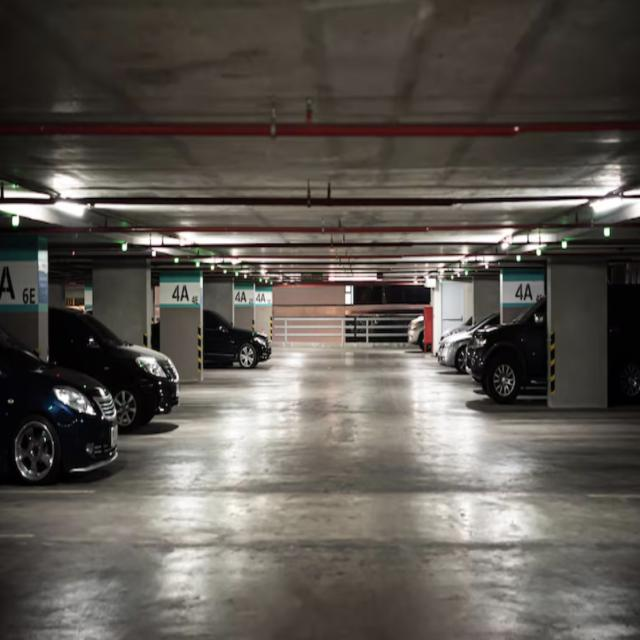libre: (565, 325, 640, 640), (150, 284, 200, 356), (234, 290, 296, 336)
ocupado: (0, 308, 121, 480), (404, 296, 557, 411), (100, 340, 178, 438), (203, 305, 276, 372)
